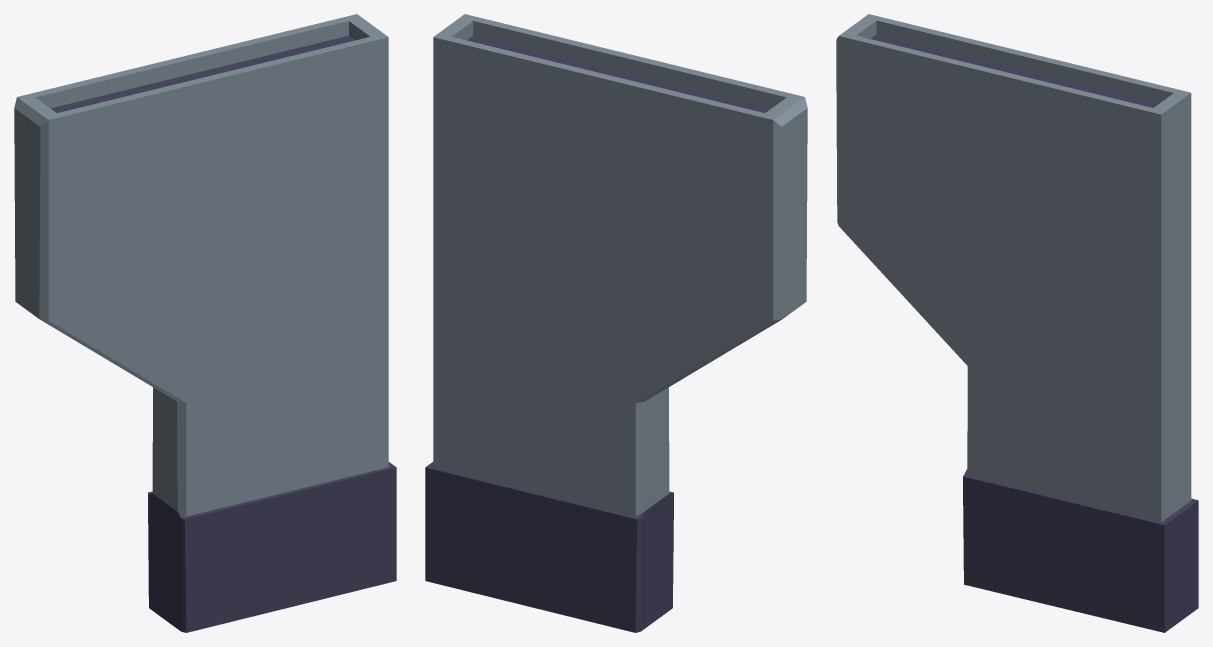
Rendered from gateR.fbx.
3 renders of one model, left to right at view 1: azimuth 30°, elevation 25°; view 2: azimuth 150°, elevation 25°; view 3: azimuth 330°, elevation 25°, orthographic. The views are drawn at different scales.
Parts seen in each view (by area): view 1: Cube.011; view 2: Cube.011; view 3: Cube.011.
Part boxes in pixels (box(x1,y1,x2,y2)): Cube.011: box(14, 14, 396, 632); Cube.011: box(425, 14, 807, 632); Cube.011: box(836, 14, 1198, 632).
Size of the model in its own units: 390 by 576 by 71.83.
